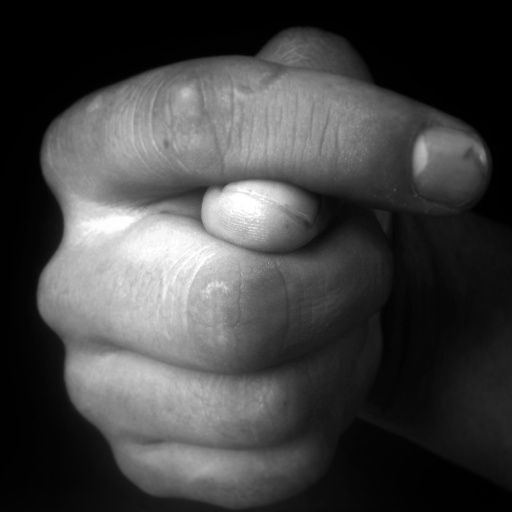hand: (31, 19, 492, 511)
